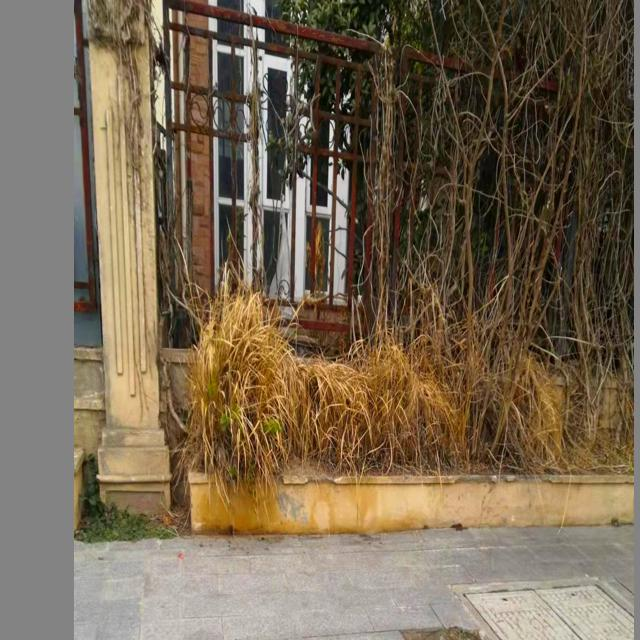good: (462, 577, 634, 640)
uncovered: (221, 635, 495, 640)
